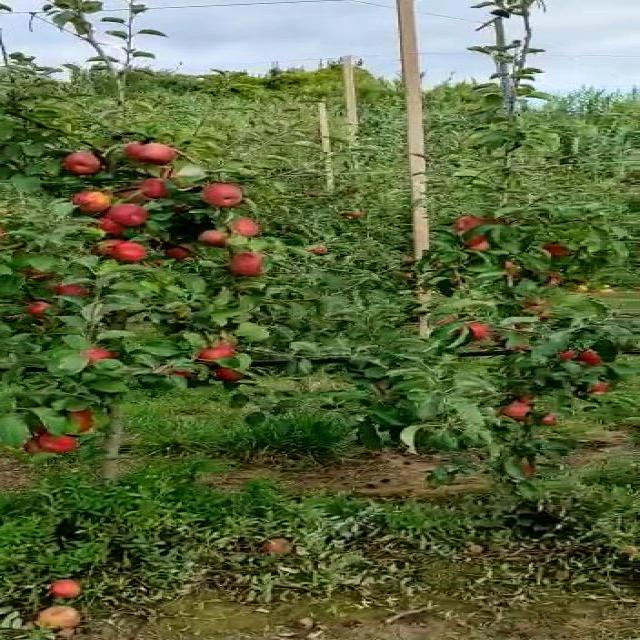100-_ripeness: (200, 183, 253, 209), (53, 406, 100, 434), (234, 250, 276, 277), (442, 317, 494, 338), (200, 360, 251, 381), (74, 188, 122, 210), (109, 205, 155, 227), (220, 215, 260, 239), (62, 153, 102, 176), (131, 143, 174, 164), (38, 434, 80, 455), (502, 398, 536, 423), (457, 226, 488, 253), (84, 341, 120, 364), (134, 177, 172, 198), (197, 339, 234, 360), (107, 243, 144, 262), (187, 229, 235, 243), (20, 302, 60, 315)
